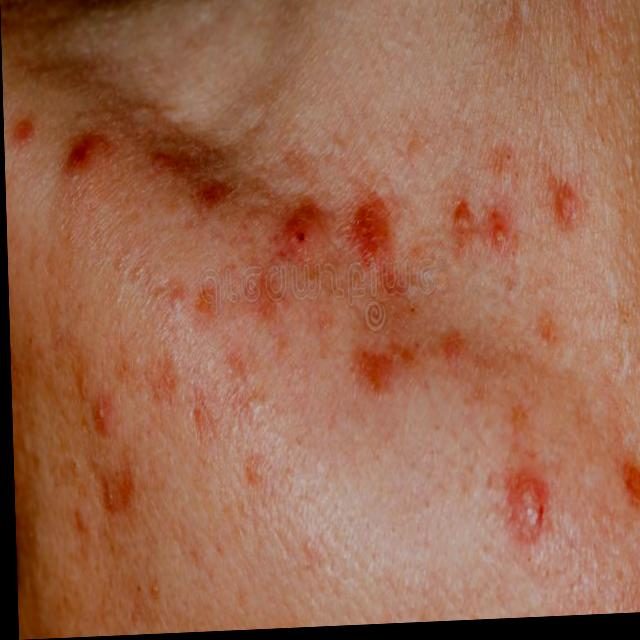9: (489, 205, 514, 267)
dark spot: (63, 433, 93, 491), (121, 300, 146, 353), (72, 91, 98, 130)
papules: (506, 462, 562, 551)
pustules: (277, 194, 333, 272)
